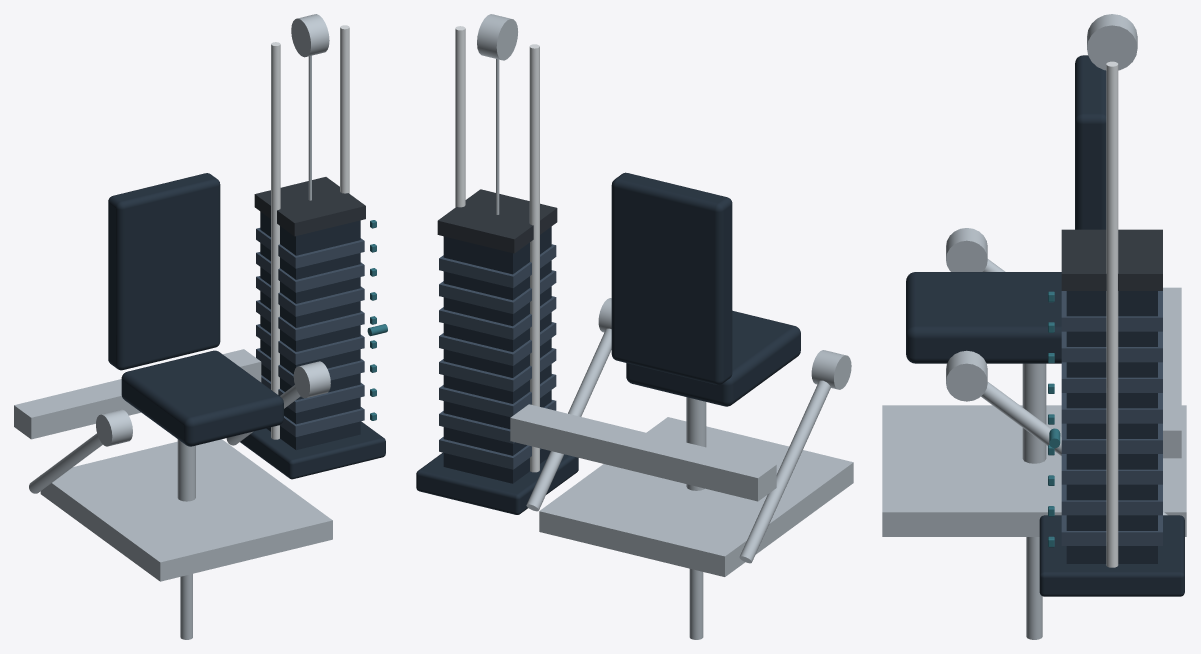
The model's file is machine_row.glb.
3 renders of one model, left to right at view 1: azimuth 30°, elevation 25°; view 2: azimuth 150°, elevation 25°; view 3: azimuth 270°, elevation 25°, orthographic. The views are drawn at different scales.
Visible parts, largest first — view 1: base, back, seat, weightPlate (×8), stack, guide (×2), pivotBridge, stackBase, stackLift, loadPulley, Lsupport, Lpivot (+4 smaller); view 2: back, base, weightPlate (×8), stack, pivotBridge, seat, guide (×2), stackLift, stackBase, Lsupport, Rsupport, loadPulley (+4 smaller); view 3: base, seat, weightPlate (×8), stack, stackBase, guide, stackLift, back, pivotBridge, loadPulley, post, Rpivot (+3 smaller).
Part boxes in pixels (left/top/right/bottom): base: left=40, top=439, right=332, bottom=581; back: left=108, top=173, right=220, bottom=370; seat: left=121, top=350, right=283, bottom=446; weightPlate (×8): left=256, top=228, right=364, bottom=436; stack: left=260, top=211, right=360, bottom=450; guide (×2): left=271, top=25, right=349, bottom=439; pivotBridge: left=14, top=349, right=261, bottom=439; stackBase: left=240, top=421, right=385, bottom=479; stackLift: left=254, top=177, right=365, bottom=236; loadPulley: left=291, top=14, right=329, bottom=57; Lsupport: left=29, top=433, right=102, bottom=493; Lpivot: left=96, top=409, right=132, bottom=446; back: left=611, top=172, right=732, bottom=384; base: left=539, top=417, right=853, bottom=576; weightPlate (×8): left=439, top=244, right=556, bottom=469; stack: left=443, top=226, right=551, bottom=483; pivotBridge: left=510, top=404, right=776, bottom=501; seat: left=626, top=310, right=800, bottom=406; guide (×2): left=455, top=26, right=539, bottom=472; stackLift: left=437, top=189, right=557, bottom=253; stackBase: left=416, top=452, right=578, bottom=514; Lsupport: left=739, top=380, right=830, bottom=563; Rsupport: left=526, top=328, right=611, bottom=511; loadPulley: left=477, top=14, right=517, bottom=60; base: left=882, top=405, right=1186, bottom=536; seat: left=906, top=272, right=1061, bottom=363; weightPlate (×8): left=1061, top=291, right=1162, bottom=545; stack: left=1066, top=291, right=1157, bottom=563; stackBase: left=1039, top=515, right=1184, bottom=596; guide: left=1106, top=61, right=1118, bottom=567; stackLift: left=1061, top=229, right=1162, bottom=290; back: left=1075, top=55, right=1106, bottom=229; pivotBridge: left=1163, top=287, right=1181, bottom=458; loadPulley: left=1087, top=14, right=1137, bottom=70; post: left=1022, top=363, right=1046, bottom=463; Rpivot: left=946, top=350, right=987, bottom=401.
Bounding box in the file's own units: 1.4 × 2.33 × 0.9.
